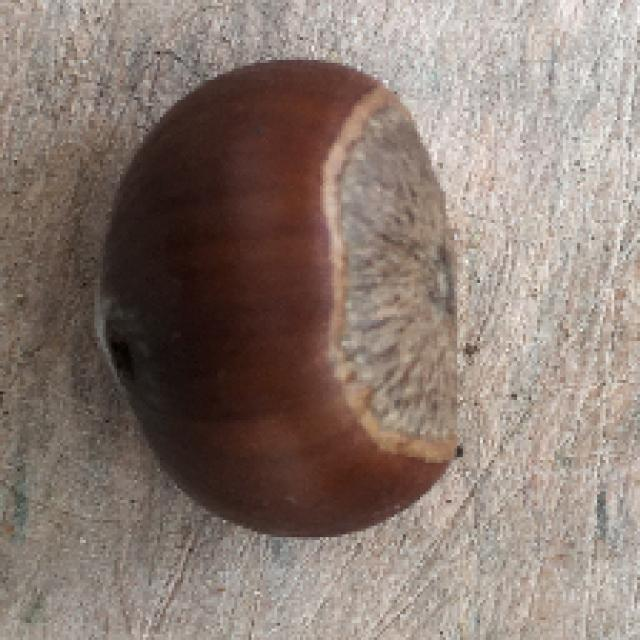damagedHazelnut: (72, 49, 502, 547)
